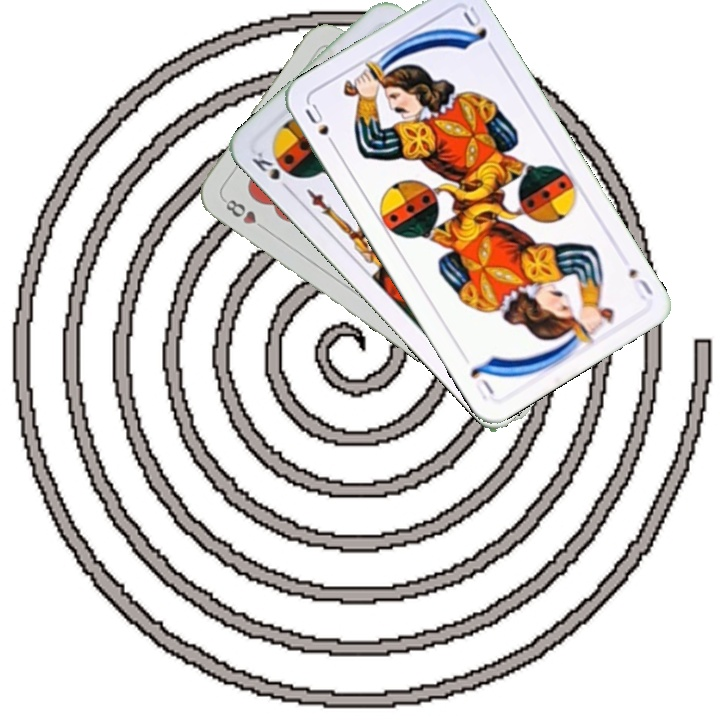H8: (219, 194, 270, 234)
SK: (247, 147, 294, 195)
SU: (301, 99, 341, 153), (624, 264, 656, 303)
